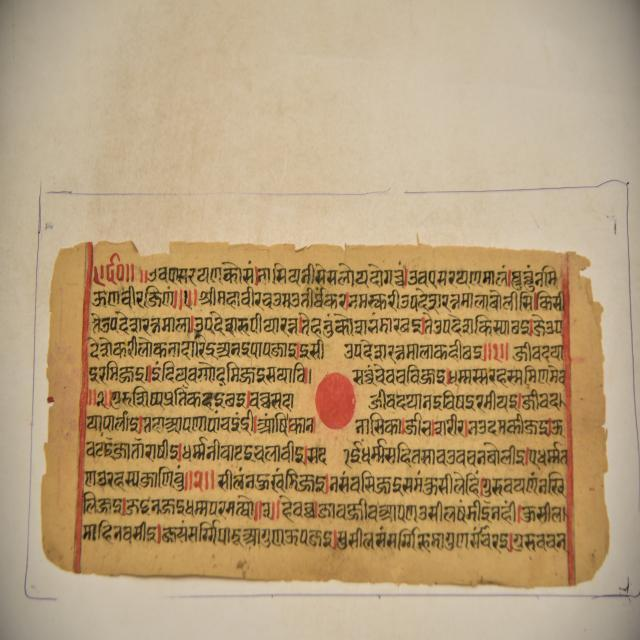text_paragraph: (42, 242, 603, 576)
